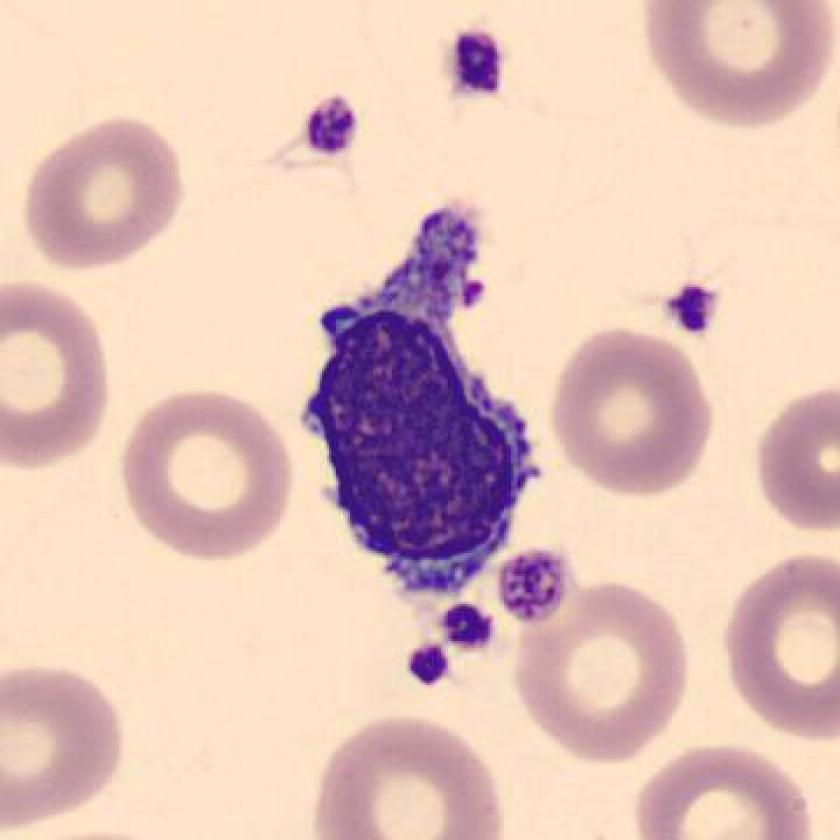lymphocyte: (288, 193, 566, 617)
